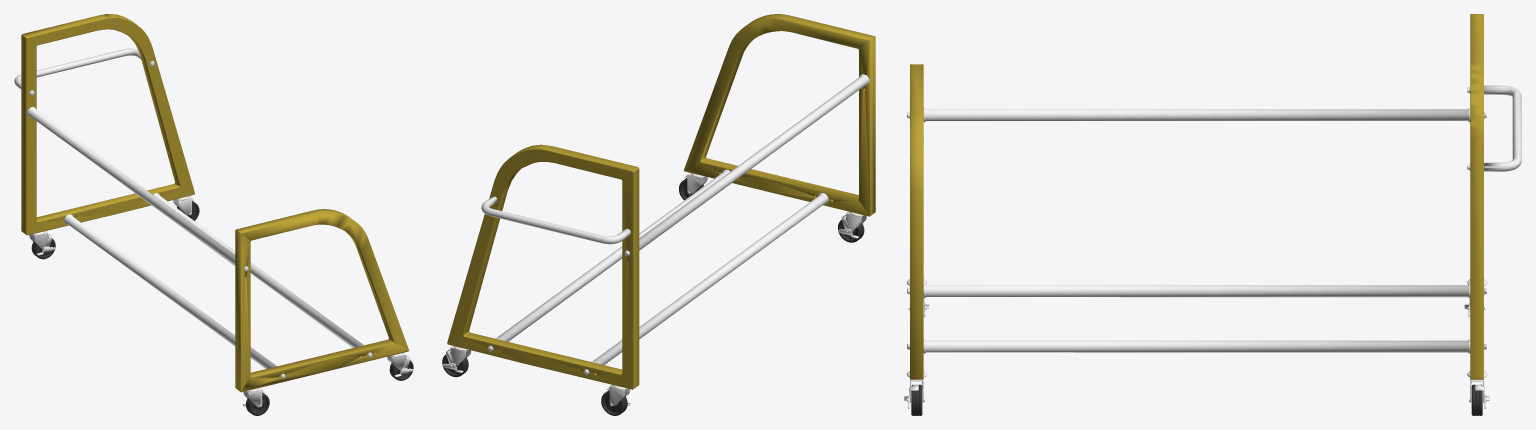
The model's file is storage_tire_rack_c01.glb.
The picture shows the model from 3 angles, left to right: view 1: azimuth 30°, elevation 25°; view 2: azimuth 150°, elevation 25°; view 3: azimuth 270°, elevation 25°; orthographic projection. The views are drawn at different scales.
Parts seen in each view (by area): view 1: frame_01_mesh_00, wheel_01_mesh_00; view 2: frame_01_mesh_00, wheel_01_mesh_00; view 3: frame_01_mesh_00, wheel_01_mesh_00.
Boxes of the visible parts, x1,y1,x2,y2 form: frame_01_mesh_00: (14, 14, 413, 407); wheel_01_mesh_00: (31, 200, 413, 415); frame_01_mesh_00: (442, 14, 875, 406); wheel_01_mesh_00: (442, 178, 864, 415); frame_01_mesh_00: (904, 14, 1521, 408); wheel_01_mesh_00: (911, 384, 1482, 415).
Size of the model in its own units: 0.5783 by 0.719 by 1.36.
Materials: 3 (2 with a texture image).
